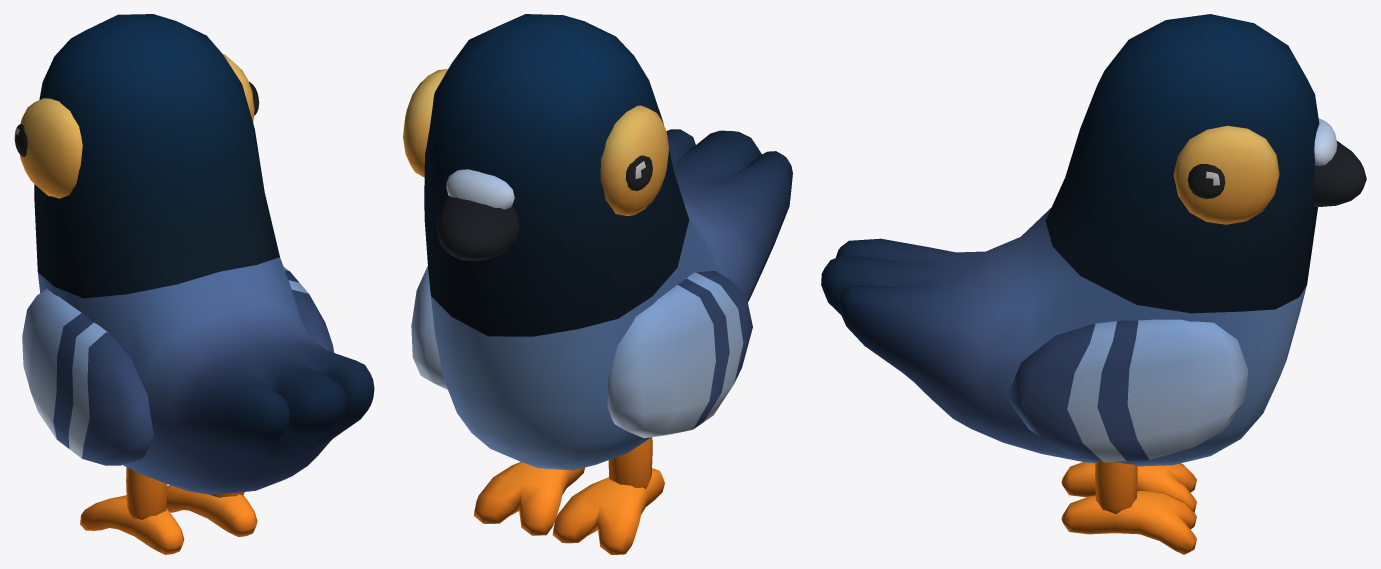
File: pegion.glb
3 views of the same model, side by side, from view 1: azimuth 30°, elevation 25°; view 2: azimuth 150°, elevation 25°; view 3: azimuth 270°, elevation 25° (orthographic). The views are drawn at different scales.
Visible parts, largest first — view 1: Pigeon_7, wings_6, Cube.006_4, Cube.002_0, Cube.005_3, Cube.003_1; view 2: Pigeon_7, wings_6, Cube.006_4, Cube.002_0, Cube.004_2, Cube.011_5, Cube.005_3, Cube.003_1; view 3: Pigeon_7, wings_6, Cube.006_4, Cube.002_0, Cube.004_2, Cube.005_3, Cube.003_1, Cube.011_5.
Boxes of the visible parts, <box> form: Pigeon_7: <box>34,14,374,494</box>; wings_6: <box>22,266,334,465</box>; Cube.006_4: <box>80,485,257,554</box>; Cube.002_0: <box>20,54,254,198</box>; Cube.005_3: <box>126,467,244,519</box>; Cube.003_1: <box>14,82,259,156</box>; Pigeon_7: <box>424,14,792,470</box>; wings_6: <box>411,266,752,437</box>; Cube.006_4: <box>474,462,664,554</box>; Cube.002_0: <box>403,69,668,215</box>; Cube.004_2: <box>437,195,519,260</box>; Cube.011_5: <box>446,169,514,209</box>; Cube.005_3: <box>608,437,652,489</box>; Cube.003_1: <box>625,155,652,190</box>; Pigeon_7: <box>821,14,1319,466</box>; wings_6: <box>1007,319,1248,462</box>; Cube.006_4: <box>1061,462,1196,554</box>; Cube.002_0: <box>1173,125,1279,224</box>; Cube.004_2: <box>1313,141,1366,206</box>; Cube.005_3: <box>1095,461,1137,514</box>; Cube.003_1: <box>1187,164,1225,198</box>; Cube.011_5: <box>1314,118,1337,165</box>.
Size of the model in its own units: 0.2605 by 0.4863 by 0.4821.
1 material, 1 textured.
